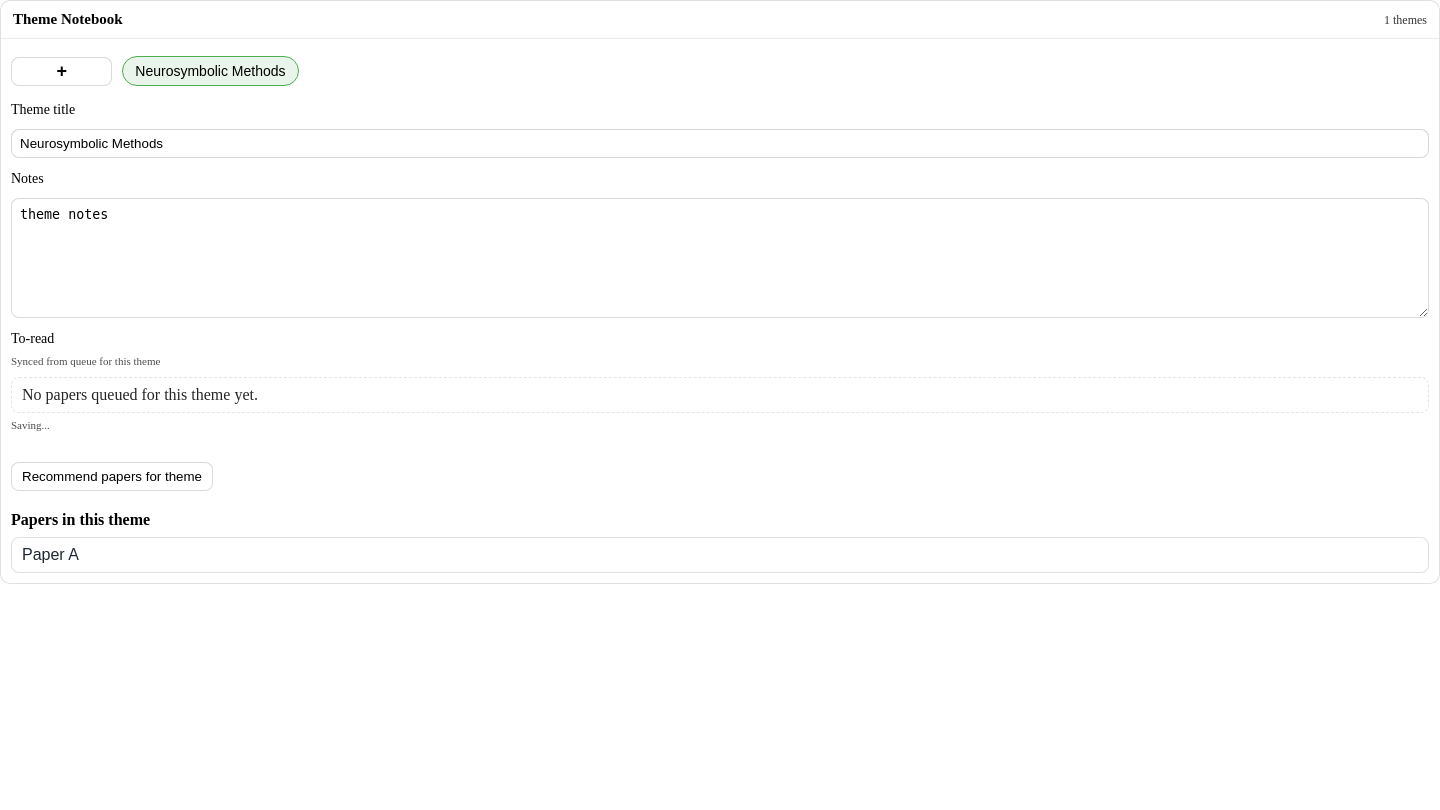
ThemeNotebook recommendations › shows recommendation error
The image size is (1440, 810).
Click the button "Recommend papers for theme" at (112, 476), box [11,462,213,491]
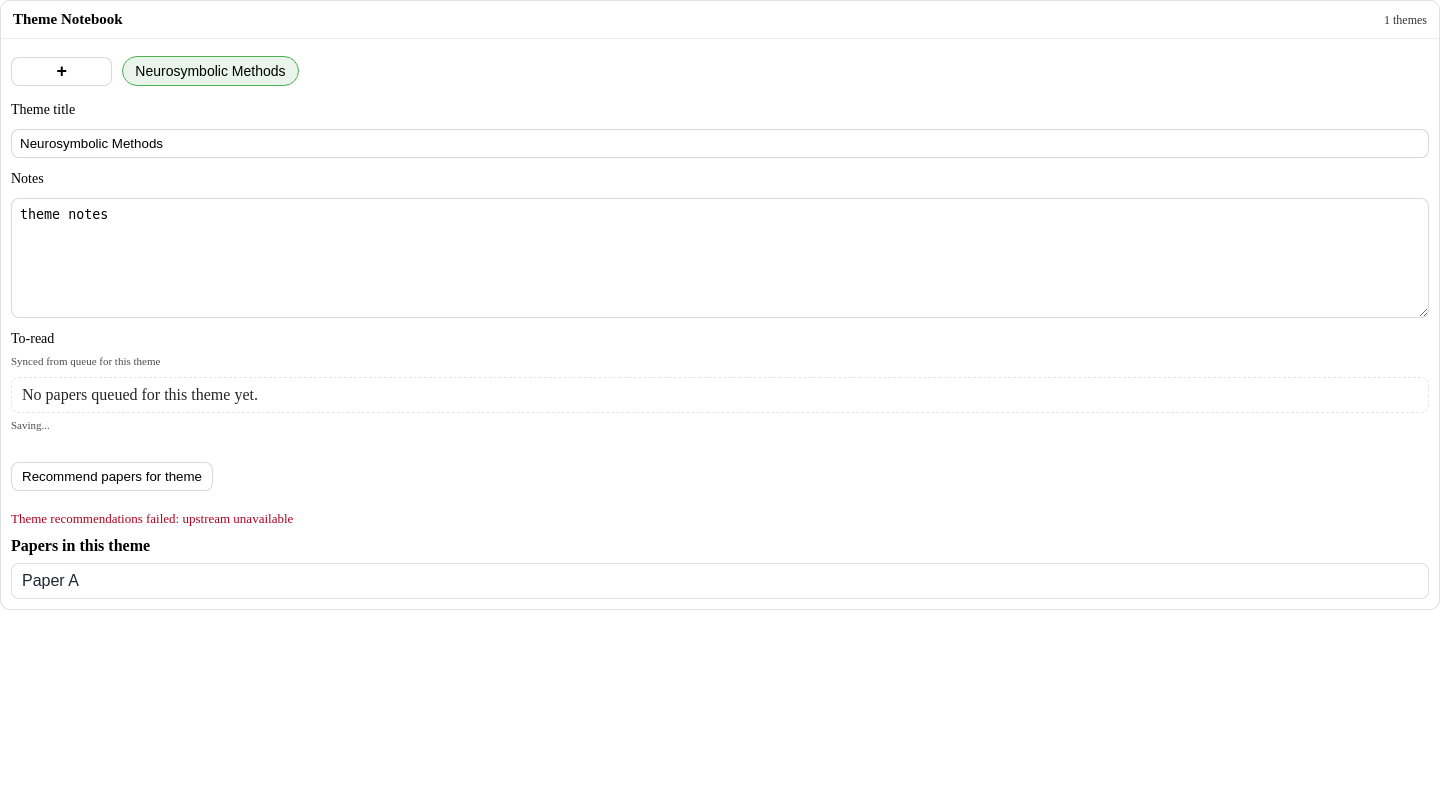
expect the text "Theme recommendations failed: upstream unavailable" is shown: met, box [11,511,293,526]
